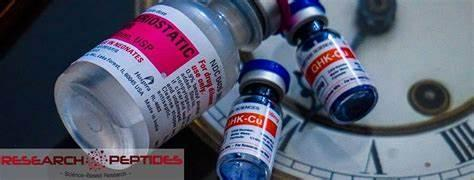Syringe: (56, 0, 241, 173), (284, 2, 386, 131), (214, 52, 300, 178)
